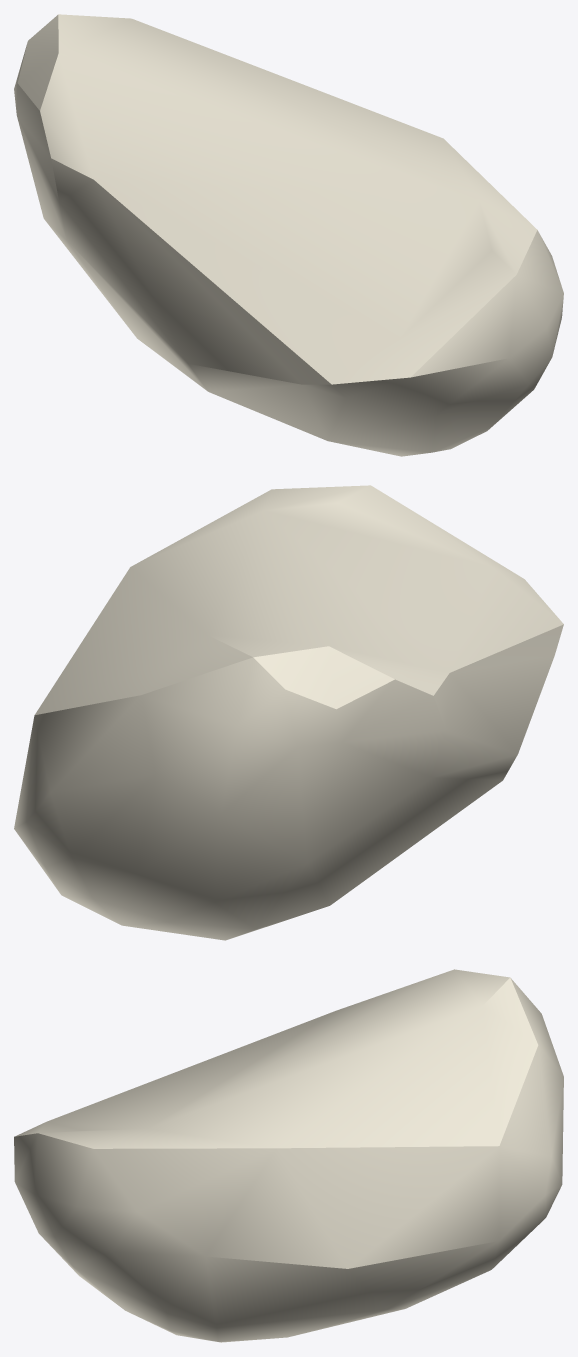
File: fma45098_fj3270.glb
3 renders of one model, top to bottom at view 1: azimuth 30°, elevation 25°; view 2: azimuth 150°, elevation 25°; view 3: azimuth 270°, elevation 25°, orthographic. The views are drawn at different scales.
Parts seen in each view (by area): view 1: FMA45098_FJ3270; view 2: FMA45098_FJ3270; view 3: FMA45098_FJ3270.
Part boxes in pixels (left/top/right/bottom): FMA45098_FJ3270: left=14, top=14, right=563, bottom=456; FMA45098_FJ3270: left=14, top=485, right=563, bottom=940; FMA45098_FJ3270: left=14, top=969, right=563, bottom=1342.
Bounding box in the file's own units: 0.00847 × 0.00737 × 0.0129.
